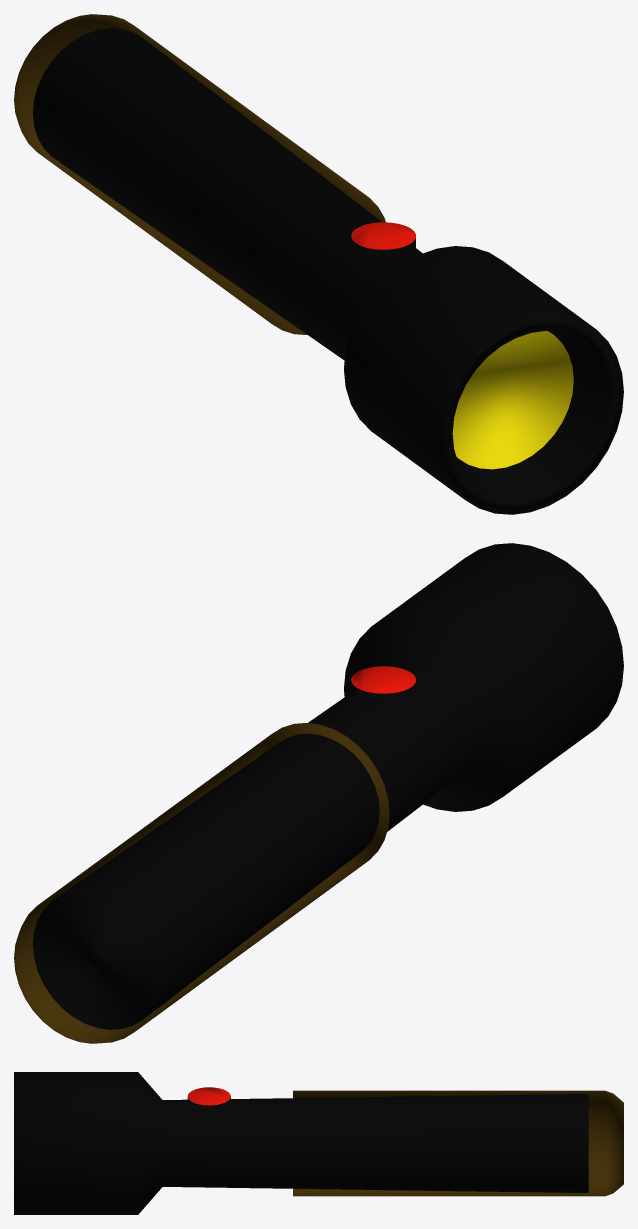
File: Flashlight.fbx
3 views of the same model, one above another, from view 1: azimuth 30°, elevation 25°; view 2: azimuth 150°, elevation 25°; view 3: azimuth 270°, elevation 25° (orthographic). The views are drawn at different scales.
Parts seen in each view (by area): view 1: Cylinder; view 2: Cylinder; view 3: Cylinder.
Part boxes in pixels (box(x1,y1,x2,y2)): Cylinder: box(14, 14, 623, 514); Cylinder: box(14, 543, 623, 1043); Cylinder: box(14, 1072, 623, 1214).
Bounding box in the file's own units: 2.57 × 2.57 × 10.98.
